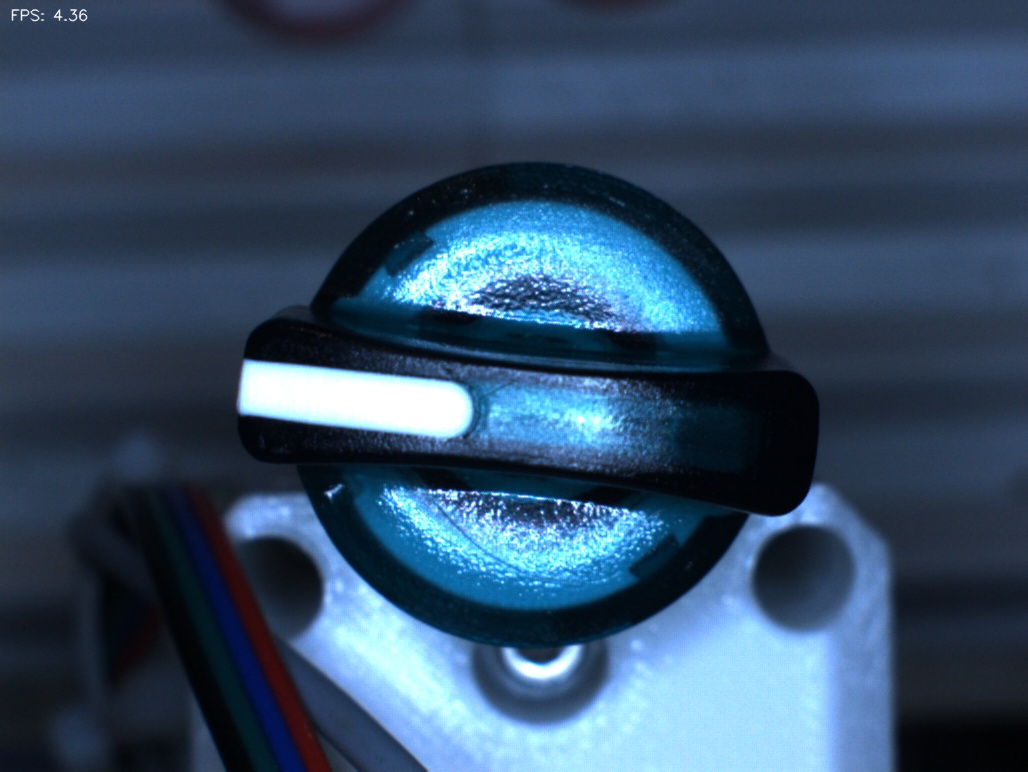Choc: (300, 452, 378, 530)
